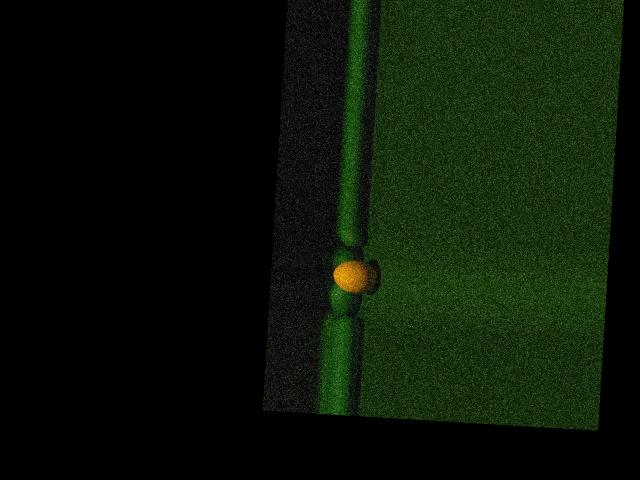egg: (332, 259, 378, 294)
